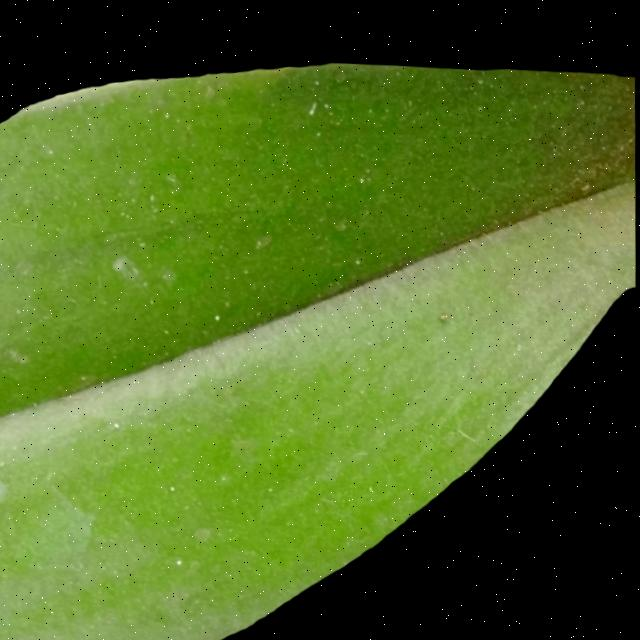mite: (24, 62, 586, 380), (163, 476, 191, 566), (109, 251, 143, 279), (330, 58, 349, 79), (170, 548, 189, 566), (159, 264, 179, 281), (253, 229, 272, 246), (333, 210, 350, 227), (208, 305, 225, 321), (306, 94, 318, 111), (436, 304, 449, 316), (174, 552, 185, 563), (352, 250, 363, 260), (212, 308, 222, 318), (168, 480, 178, 490), (366, 478, 377, 487)
